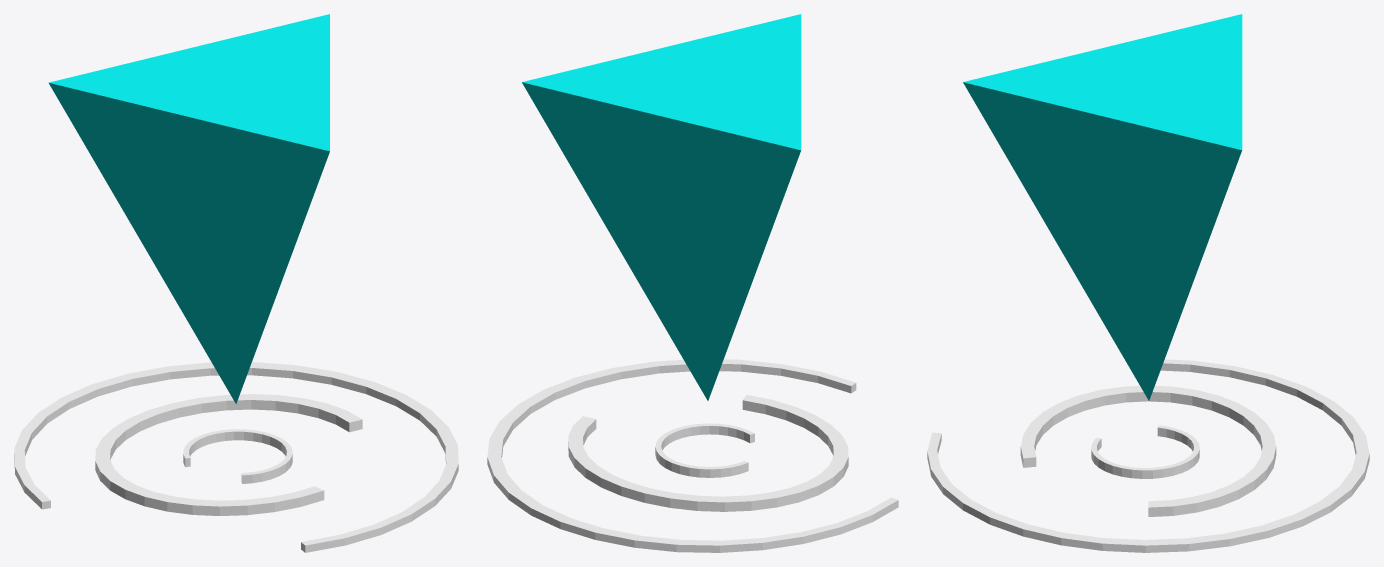
The model's file is building.glb.
3 renders of one model, left to right at view 1: azimuth 30°, elevation 25°; view 2: azimuth 150°, elevation 25°; view 3: azimuth 270°, elevation 25°, orthographic.
Visible parts, largest first — view 1: Cone.001, Cylinder.002, Cylinder.001, Cylinder.003; view 2: Cone.001, Cylinder.002, Cylinder.001, Cylinder.003; view 3: Cone.001, Cylinder.002, Cylinder.001, Cylinder.003.
Boxes of the visible parts, bbox=[...] form: Cone.001: bbox=[48, 14, 329, 403]; Cylinder.002: bbox=[14, 362, 458, 552]; Cylinder.001: bbox=[95, 394, 362, 515]; Cylinder.003: bbox=[183, 429, 292, 483]; Cone.001: bbox=[522, 14, 801, 400]; Cylinder.002: bbox=[487, 359, 898, 552]; Cylinder.001: bbox=[568, 395, 848, 511]; Cylinder.003: bbox=[655, 423, 754, 477]; Cone.001: bbox=[963, 14, 1242, 400]; Cylinder.002: bbox=[927, 359, 1369, 552]; Cylinder.001: bbox=[1020, 385, 1276, 516]; Cylinder.003: bbox=[1091, 425, 1199, 478].
Bounding box in the file's own units: 8.2 × 7.72 × 8.2.
